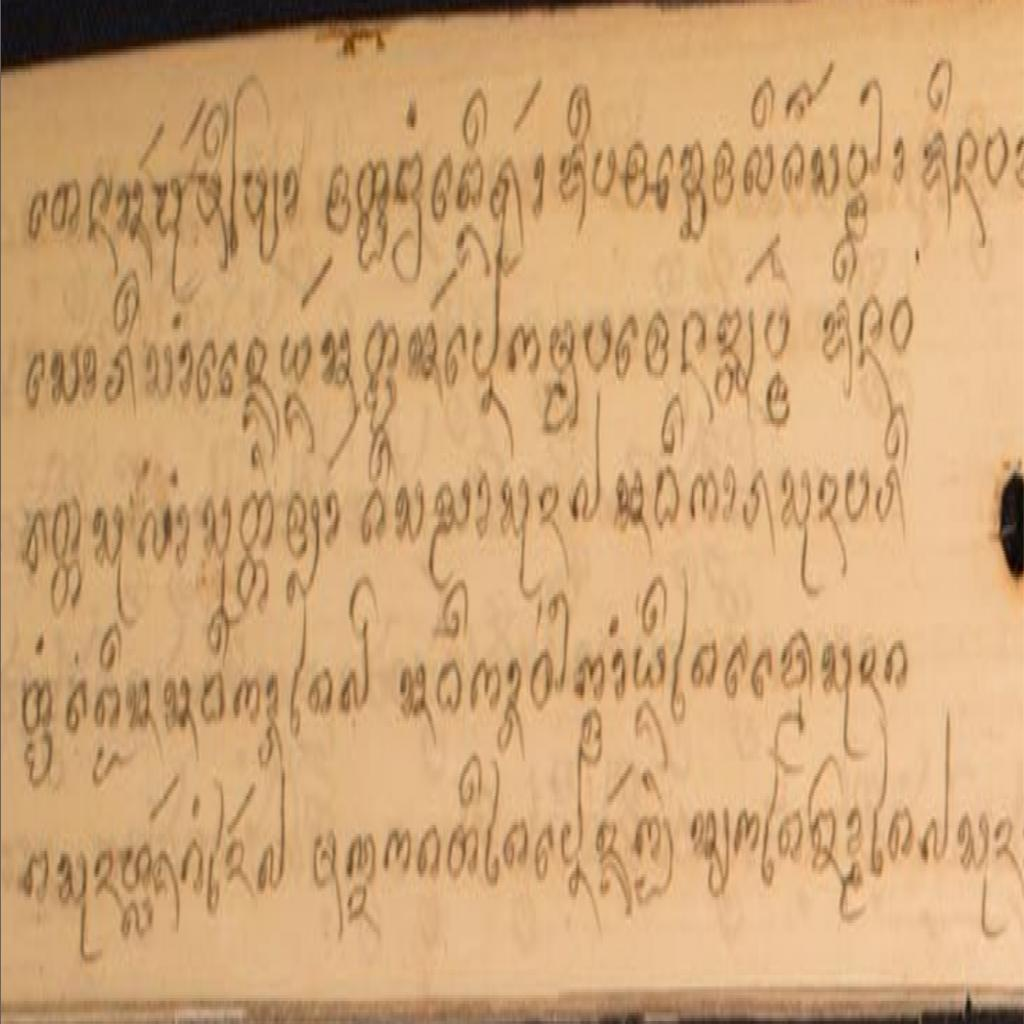LN023: (680, 304, 710, 396)
